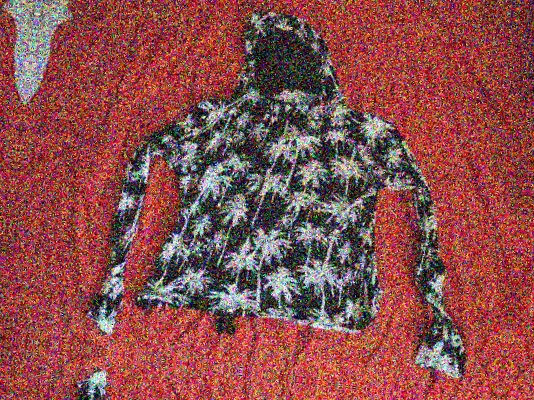Hoodie: (62, 0, 498, 392), (9, 356, 445, 400)
